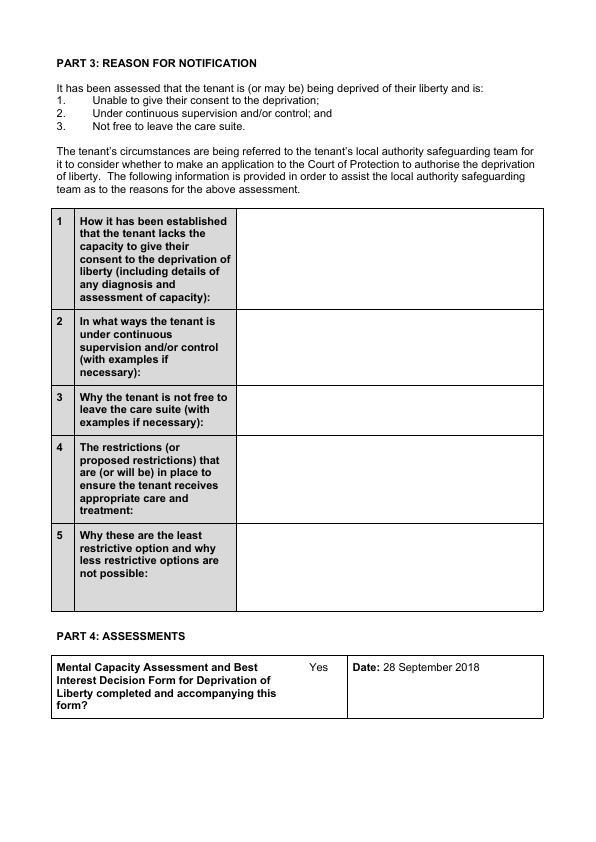table: (45, 205, 549, 618), (47, 651, 560, 729)
text: (53, 144, 544, 197), (51, 78, 490, 135), (51, 56, 259, 71), (50, 627, 187, 646)
